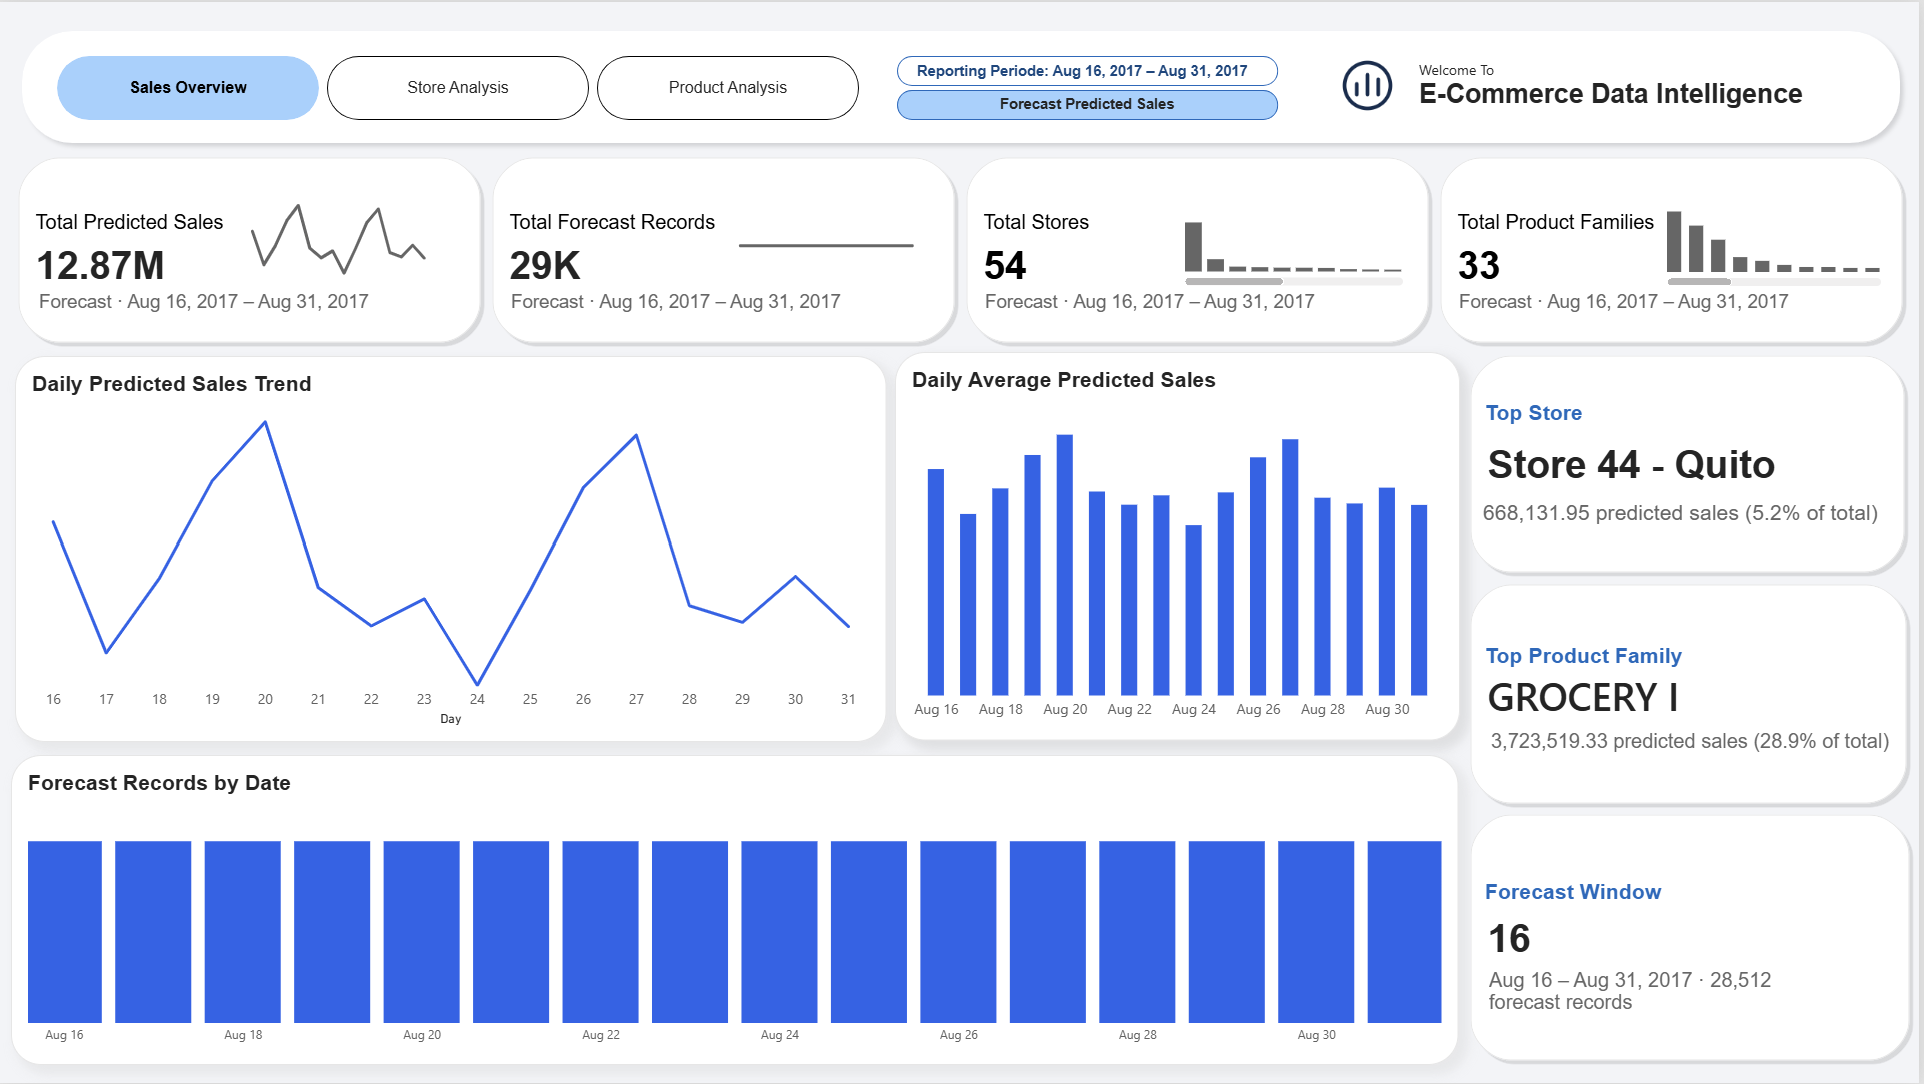

This screenshot's page, from the dashboard's own definition file:
{"tool":"powerbi","page":{"name":"Sales Overview","canvas":[1920,1080],"ordinal":0},"visuals":[{"type":"shape","box":[14,20,1896,130],"z":0},{"type":"pageNavigator","box":[58.9,53.3,802.2,64.4],"z":1000},{"type":"textbox","box":[1420,58.3,403.3,53.3],"z":2000},{"type":"image","box":[1326.7,56.7,85,55],"z":3000},{"type":"cardVisual","fields":{"Data":["Sum(public mart_daily_sales.total_predicted_sales)1"]},"box":[14.4,150,473.3,196.7],"z":4000},{"type":"cardVisual","fields":{"Data":["Sum(public mart_daily_sales.total_forecasts)"]},"box":[488,150,473.3,196.7],"z":5000},{"type":"cardVisual","fields":{"Data":["Count(public mart_sales_by_family.family_name)"]},"box":[1436,150,473.3,196.7],"z":6000},{"type":"cardVisual","fields":{"Data":["Count(public mart_sales_by_store.store_nbr)"]},"box":[962,150,473.3,196.7],"z":7000},{"type":"lineChart","title":"Daily Predicted Sales Trend","fields":{"Category":["public mart_daily_sales.date.Variation.Date Hierarchy.Day"],"Y":["Sum(public mart_daily_sales.total_predicted_sales)"]},"box":[16.7,353.3,871.7,385],"z":8000},{"type":"columnChart","title":"Daily Average Predicted Sales","fields":{"Category":["public mart_daily_sales.date"],"Y":["Avg(public mart_daily_sales.avg_predicted_sales)"]},"box":[895,350,565,387.5],"z":9000},{"type":"columnChart","title":"Forecast Records by Date","fields":{"Category":["public mart_daily_sales.date"],"Y":["Sum(public mart_daily_sales.total_forecasts)"]},"box":[12.5,752.5,1447.5,310],"z":10000},{"type":"cardVisual","fields":{"Data":["public mart_daily_sales.Top Store"]},"box":[1465,347.5,445,227.5],"z":11000},{"type":"cardVisual","fields":{"Data":["public mart_daily_sales.Top Family"]},"box":[1465,575,447.5,230],"z":12000},{"type":"cardVisual","fields":{"Data":["public mart_daily_sales.Forecast Days"]},"box":[1465,805,450,257.5],"z":13000},{"type":"textbox","box":[1485,875,204.4,50],"z":14000},{"type":"cardVisual","fields":{"Data":["public mart_daily_sales.Forecast Window Description"]},"box":[1474.4,924.4,338,128],"z":15000},{"type":"textbox","box":[1485,640,233.3,50],"z":16000},{"type":"cardVisual","fields":{"Data":["public mart_daily_sales.Top Family Description"]},"box":[1475,703.3,441.7,68.3],"z":17000},{"type":"textbox","box":[1485,398.3,136.7,63.3],"z":18000},{"type":"cardVisual","fields":{"Data":["public mart_daily_sales.Top Store Description"]},"box":[1468.3,461.7,451.7,96.7],"z":19000},{"type":"cardVisual","fields":{"Data":["public mart_daily_sales.KPI Subtitle"]},"box":[24.4,265.6,416,66],"z":20000},{"type":"cardVisual","fields":{"Data":["public mart_daily_sales.KPI Subtitle"]},"box":[496.7,265.6,416,66],"z":21000},{"type":"cardVisual","fields":{"Data":["public mart_daily_sales.KPI Subtitle"]},"box":[970,265.6,416,66],"z":22000},{"type":"cardVisual","fields":{"Data":["public mart_daily_sales.KPI Subtitle"]},"box":[1444.4,265.6,416,66],"z":23000},{"type":"lineChart","fields":{"Category":["public mart_daily_sales.date.Variation.Date Hierarchy.Day"],"Y":["Sum(public mart_daily_sales.total_predicted_sales)"]},"box":[215.7,180,281,118],"z":24000},{"type":"lineChart","fields":{"Category":["public mart_daily_sales.date.Variation.Date Hierarchy.Day"],"Y":["Sum(public mart_daily_sales.total_forecasts)"]},"box":[704.3,180,281,118],"z":25000},{"type":"clusteredColumnChart","fields":{"Category":["public mart_sales_by_store.city"],"Y":["Sum(public mart_sales_by_store.total_predicted_sales)"]},"box":[1170,181.4,250,117.5],"z":26000},{"type":"clusteredColumnChart","fields":{"Category":["public mart_sales_by_family.family_name"],"Y":["Sum(public mart_sales_by_family.total_predicted_sales)"]},"box":[1652,182,246,118],"z":27000},{"type":"shape","box":[897.5,88.8,381.2,30],"z":28000},{"type":"textbox","box":[996.7,92.2,184.4,21.1],"z":29000},{"type":"shape","box":[897.8,54.4,381.2,30],"z":30000},{"type":"cardVisual","fields":{"Data":["public mart_daily_sales.REPORTING"]},"box":[902.1,52.9,371.1,33.3],"z":31000}]}

Visuals, with their boxes in screenshot pixels (x1, y1, x2, y2), scaled from the page's 1920x1080 canvas onto the 1924x1084 screenshot:
shape: 14:20:1914:151
pageNavigator: 59:53:863:118
textbox: 1423:59:1827:112
image: 1329:57:1415:112
cardVisual - Sum(public mart_daily_sales.total_predicted_sales)1: 14:151:489:348
cardVisual - Sum(public mart_daily_sales.total_forecasts): 489:151:963:348
cardVisual - Count(public mart_sales_by_family.family_name): 1439:151:1913:348
cardVisual - Count(public mart_sales_by_store.store_nbr): 964:151:1438:348
"Daily Predicted Sales Trend" lineChart: 17:355:890:741
"Daily Average Predicted Sales" columnChart: 897:351:1463:740
"Forecast Records by Date" columnChart: 13:755:1463:1066
cardVisual - public mart_daily_sales.Top Store: 1468:349:1914:577
cardVisual - public mart_daily_sales.Top Family: 1468:577:1916:808
cardVisual - public mart_daily_sales.Forecast Days: 1468:808:1919:1066
textbox: 1488:878:1693:928
cardVisual - public mart_daily_sales.Forecast Window Description: 1477:928:1816:1056
textbox: 1488:642:1722:693
cardVisual - public mart_daily_sales.Top Family Description: 1478:706:1921:774
textbox: 1488:400:1625:463
cardVisual - public mart_daily_sales.Top Store Description: 1471:463:1923:560
cardVisual - public mart_daily_sales.KPI Subtitle: 24:267:441:333
cardVisual - public mart_daily_sales.KPI Subtitle: 498:267:915:333
cardVisual - public mart_daily_sales.KPI Subtitle: 972:267:1389:333
cardVisual - public mart_daily_sales.KPI Subtitle: 1447:267:1864:333
lineChart - public mart_daily_sales.date.Variation.Date Hierarchy.Day x Sum(public mart_daily_sales.total_predicted_sales): 216:181:498:299
lineChart - public mart_daily_sales.date.Variation.Date Hierarchy.Day x Sum(public mart_daily_sales.total_forecasts): 706:181:987:299
clusteredColumnChart - public mart_sales_by_store.city x Sum(public mart_sales_by_store.total_predicted_sales): 1172:182:1423:300
clusteredColumnChart - public mart_sales_by_family.family_name x Sum(public mart_sales_by_family.total_predicted_sales): 1655:183:1902:301
shape: 899:89:1281:119
textbox: 999:93:1184:114
shape: 900:55:1282:85
cardVisual - public mart_daily_sales.REPORTING: 904:53:1276:87
